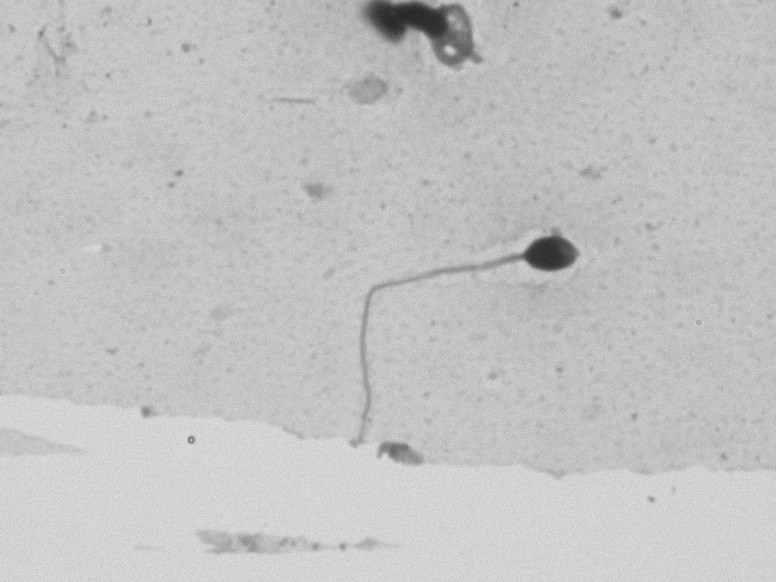Abnormal: (298, 205, 597, 432)
